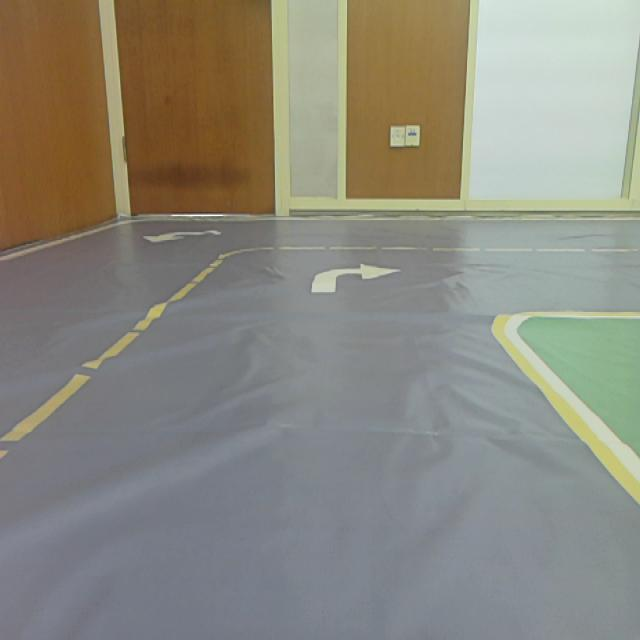left_lane: (1, 257, 223, 468)
right_lane: (493, 334, 640, 506)
